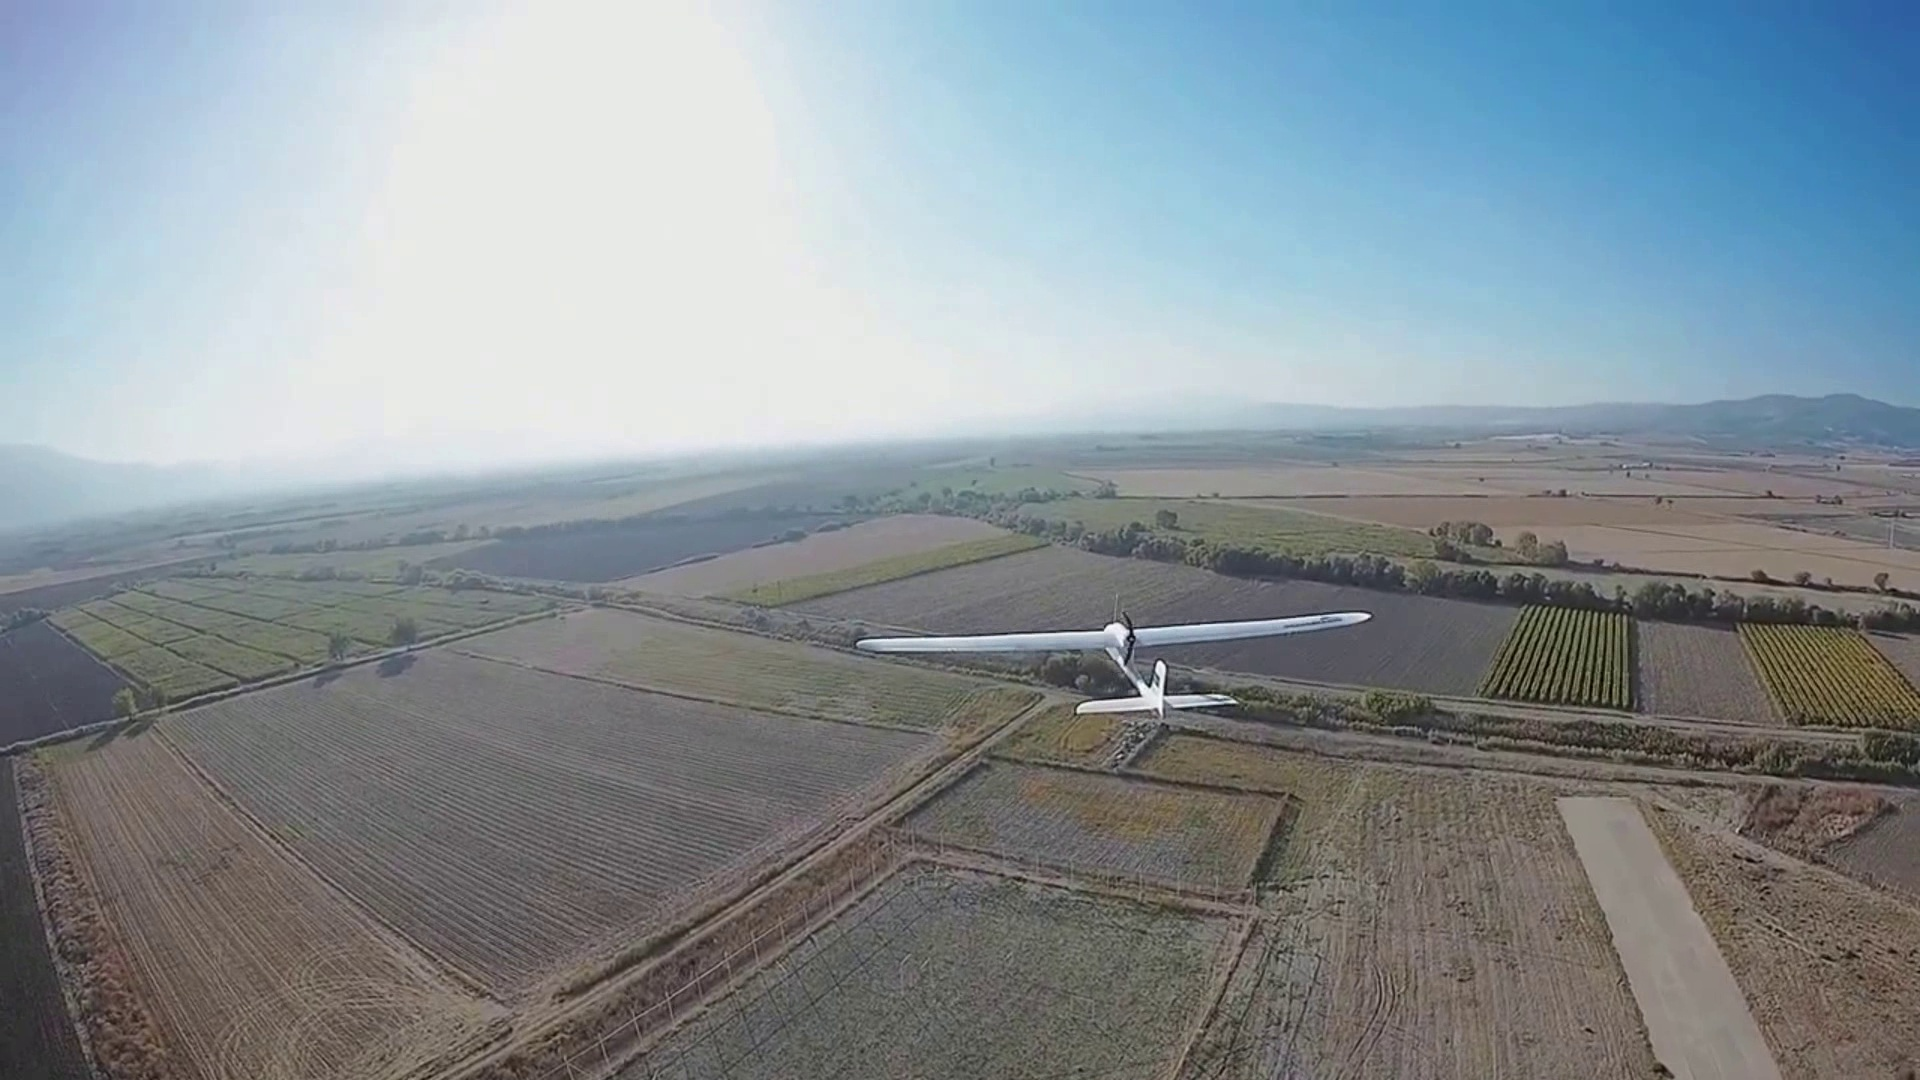airplane: (852, 603, 1371, 713)
